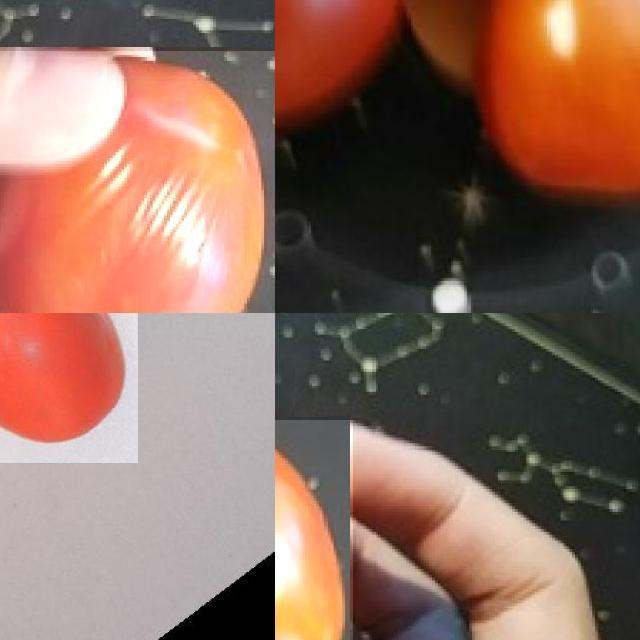Fresh Tomato: (466, 0, 640, 227), (275, 0, 421, 169), (0, 313, 138, 462)
Rotten Tomato: (0, 51, 275, 313)
